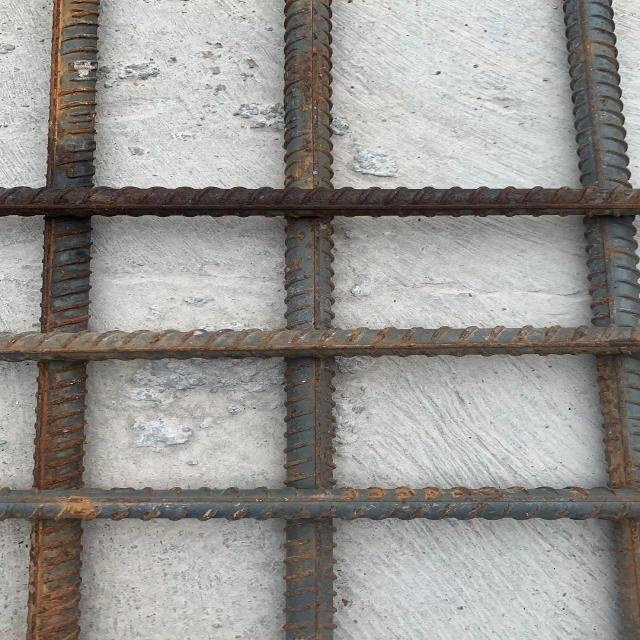ribbed bar: (22, 0, 104, 639), (559, 0, 639, 639), (277, 0, 341, 639), (0, 324, 639, 364), (0, 487, 639, 523), (0, 186, 639, 217)
